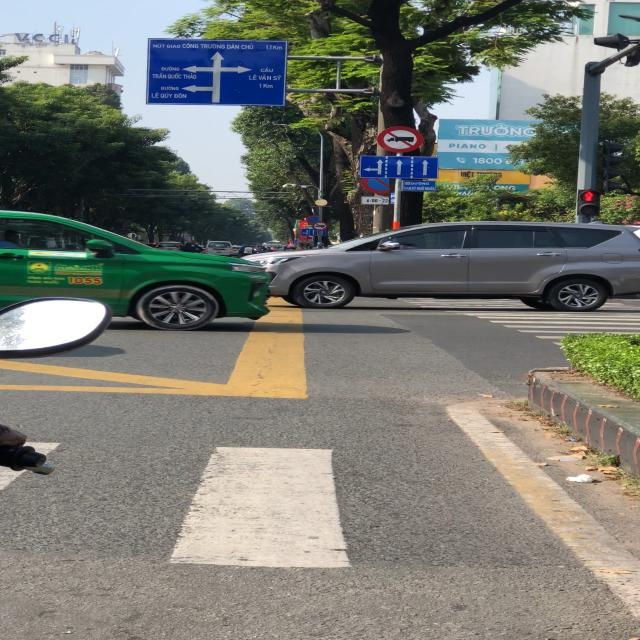Bien bao cam xe so-mi ro-mooc: (376, 125, 426, 154), (310, 220, 330, 231)
